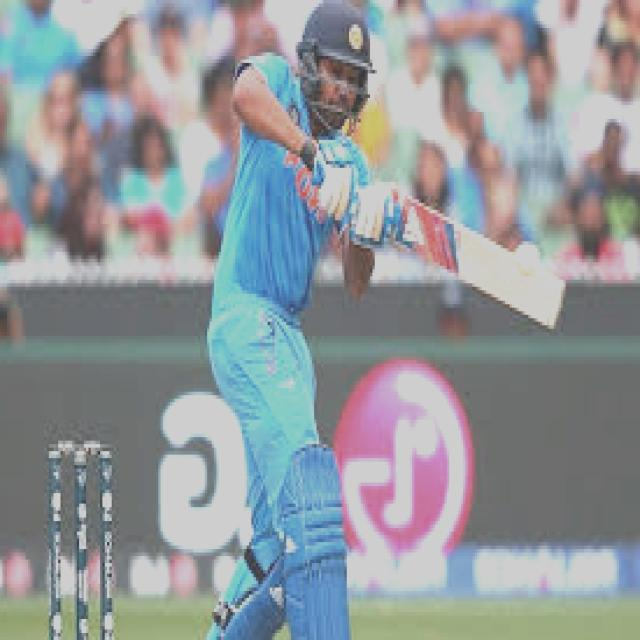toe: (547, 280, 575, 333)
